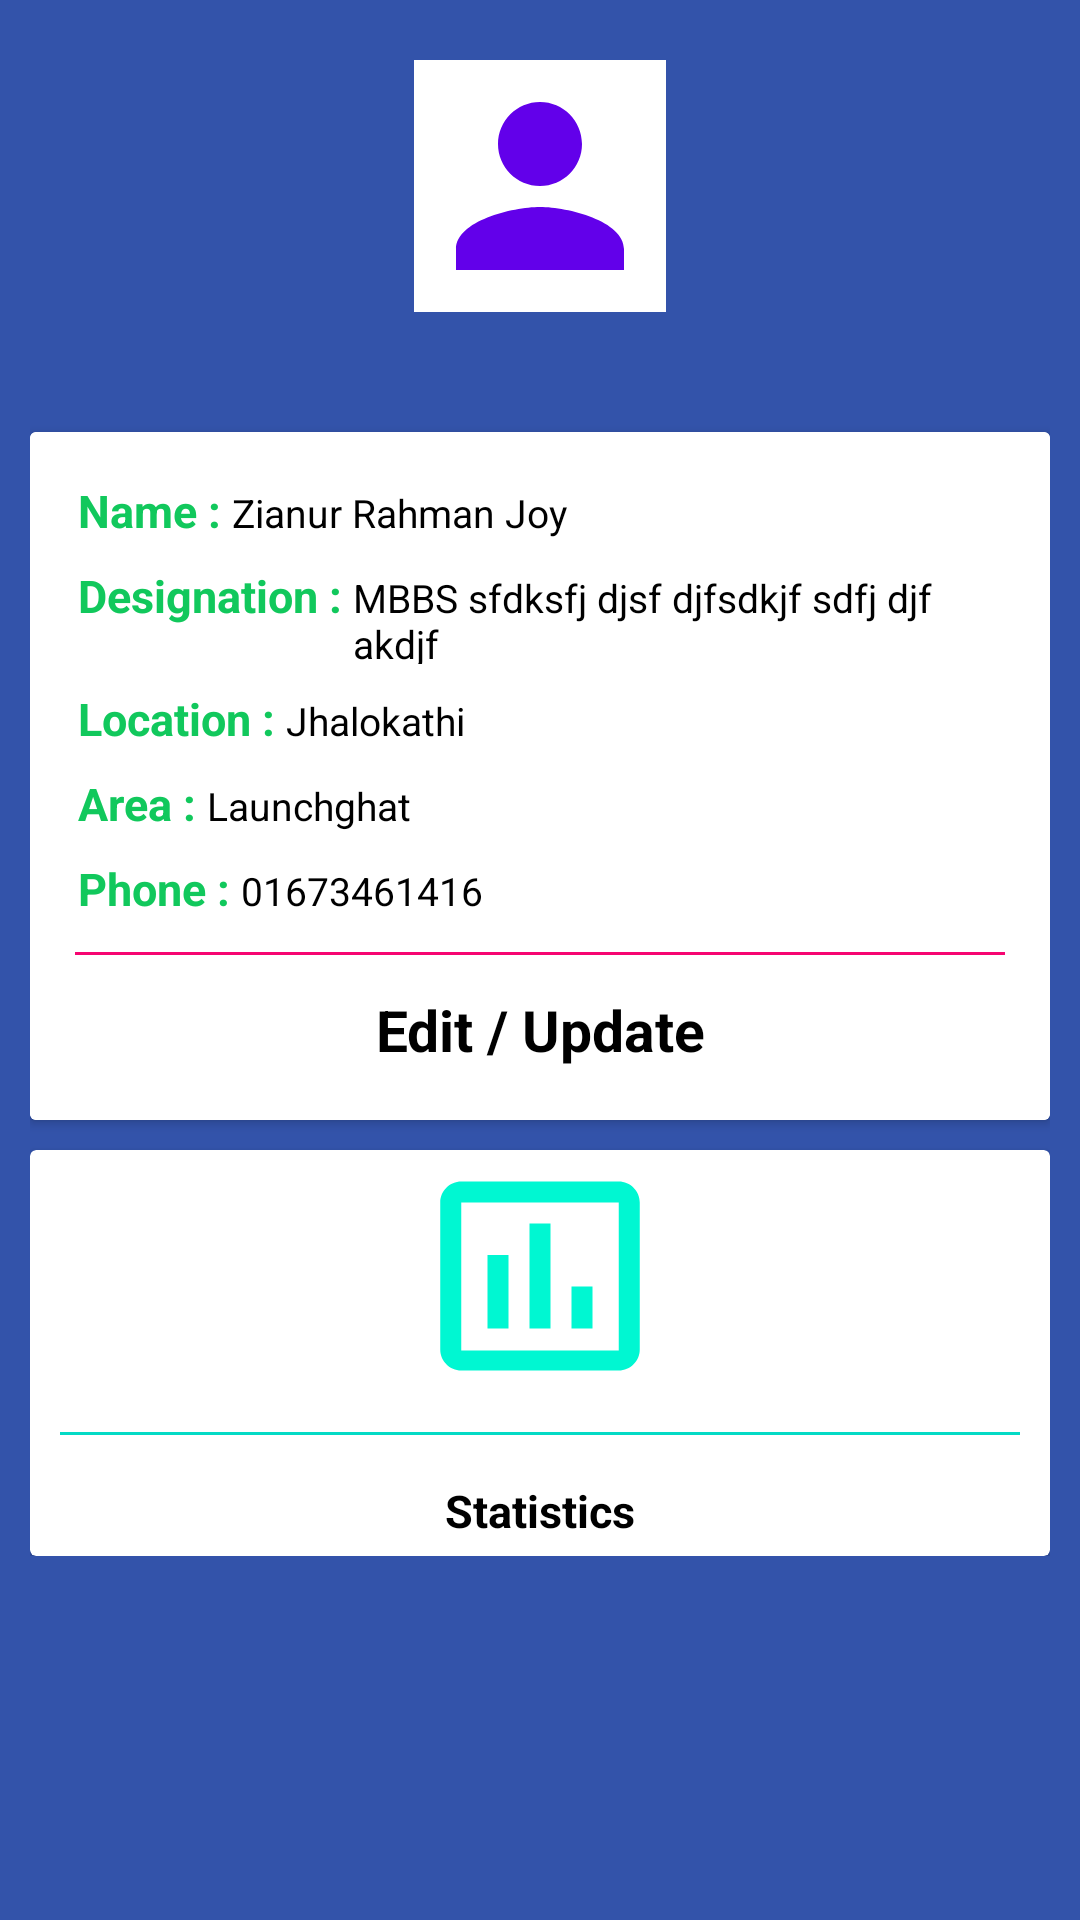

Named icons in this screenshot (1080×1920) and their bounding boxes, (x1, y1, x2, y2):
person: (414, 60, 666, 312)
